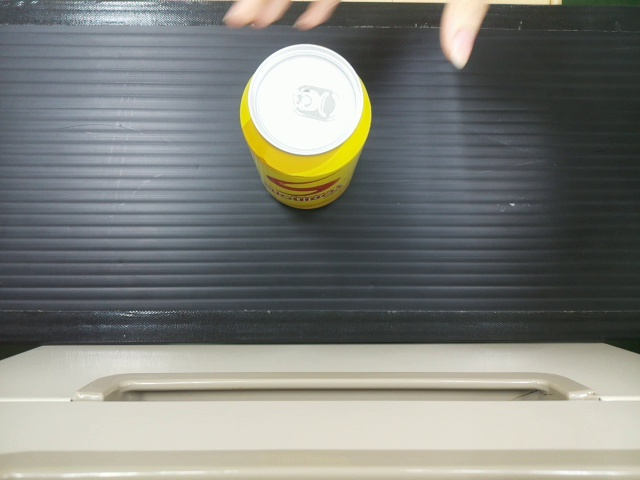can: (235, 43, 371, 209)
